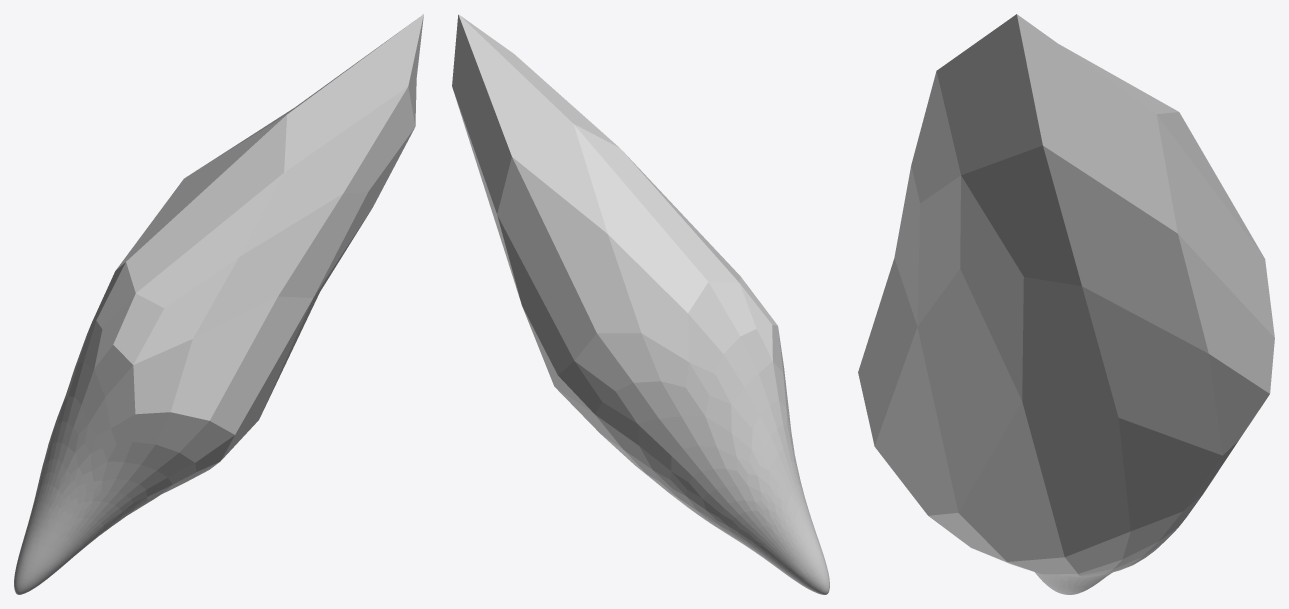
File: deathParticle.obj
3 views of the same model, side by side, from view 1: azimuth 30°, elevation 25°; view 2: azimuth 150°, elevation 25°; view 3: azimuth 270°, elevation 25° (orthographic). The views are drawn at different scales.
Visible parts, largest first — view 1: 球; view 2: 球; view 3: 球.
Part boxes in pixels (<box>): 球: <box>14,14,423,594</box>; 球: <box>452,14,829,594</box>; 球: <box>858,14,1274,594</box>.
Bounding box in the file's own units: 0.54 × 0.6448 × 0.2595.
